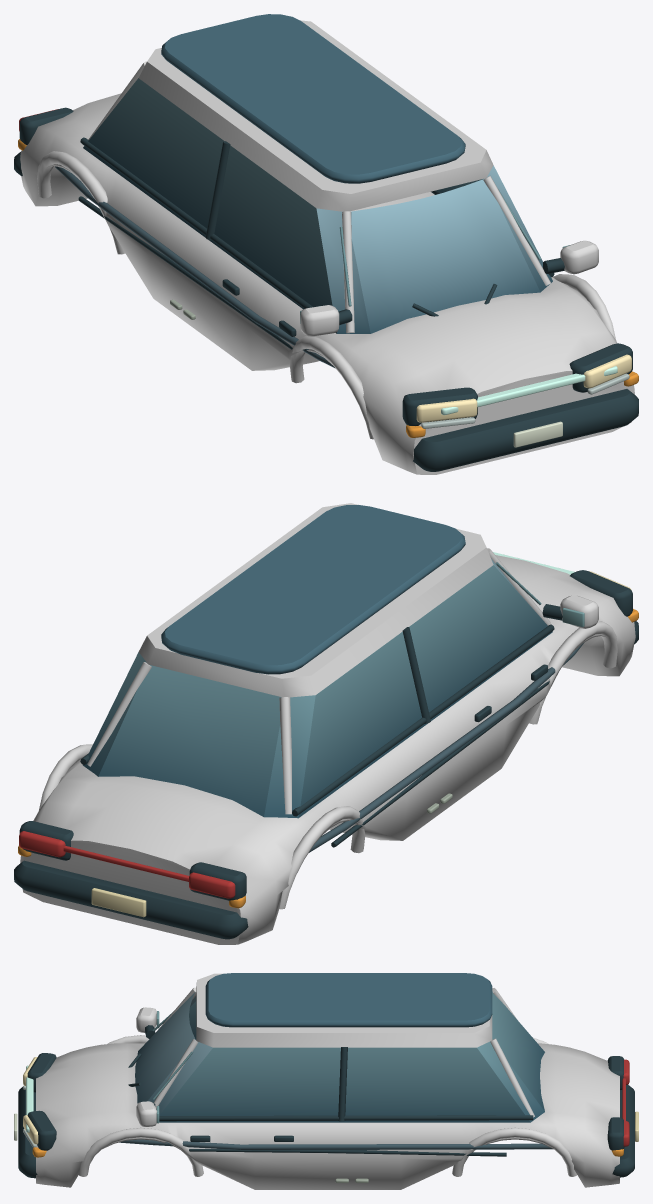
File: solstice.glb
3 renders of one model, top to bottom at view 1: azimuth 30°, elevation 25°; view 2: azimuth 150°, elevation 25°; view 3: azimuth 270°, elevation 25°, orthographic. The views are drawn at different scales.
Parts seen in each view (by area): view 1: Chassis, Headlamps; view 2: Chassis, BrakeLamps; view 3: Chassis, Headlamps, BrakeLamps.
Boxes of the visible parts, x1,y1,x2,y2 form: Chassis: [14, 14, 638, 474]; Headlamps: [416, 354, 631, 422]; Chassis: [14, 503, 638, 944]; BrakeLamps: [19, 831, 235, 898]; Chassis: [14, 973, 638, 1189]; Headlamps: [23, 1057, 38, 1144]; BrakeLamps: [622, 1059, 629, 1146].
Bounding box in the file's own units: 1.77 × 1.18 × 4.41.
